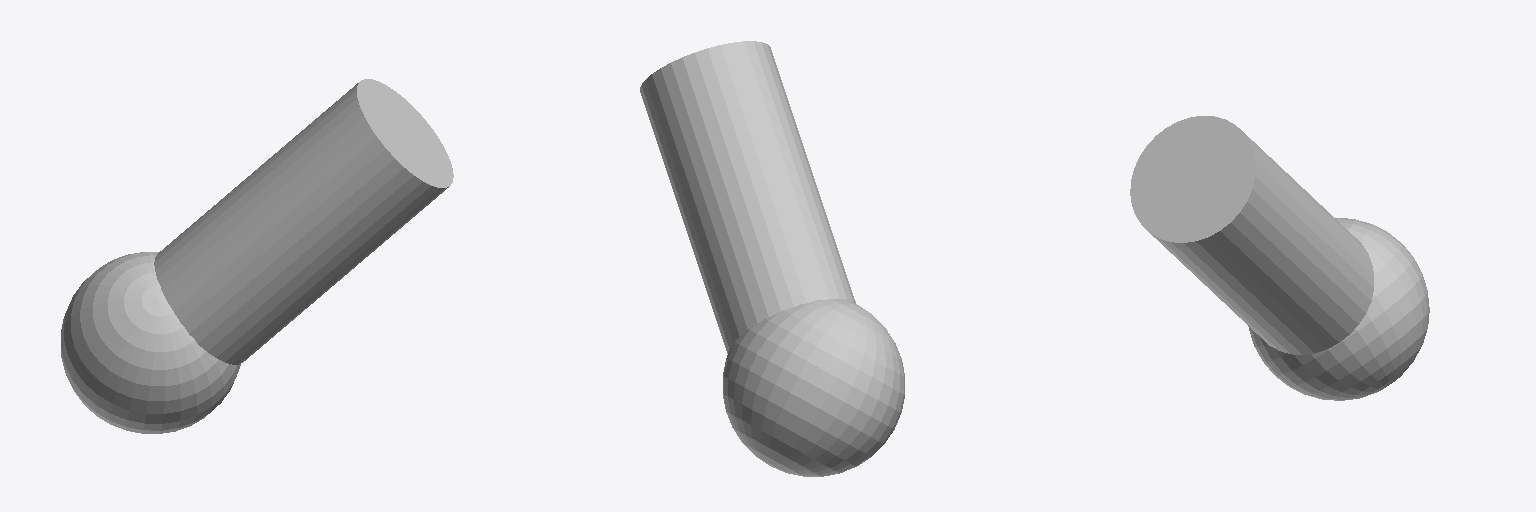
Rendered from leftArm.obj.
3 views of the same model, side by side, from view 1: azimuth 30°, elevation 25°; view 2: azimuth 150°, elevation 25°; view 3: azimuth 270°, elevation 25° (orthographic).
Parts seen in each view (by area): view 1: leftArm_ArmLeftUp; view 2: leftArm_ArmLeftUp; view 3: leftArm_ArmLeftUp.
Part boxes in pixels (left/top/right/bottom): leftArm_ArmLeftUp: left=61, top=79, right=453, bottom=433; leftArm_ArmLeftUp: left=640, top=41, right=904, bottom=476; leftArm_ArmLeftUp: left=1130, top=116, right=1429, bottom=400.
Size of the model in its own units: 0.5674 by 0.6082 by 0.4774.